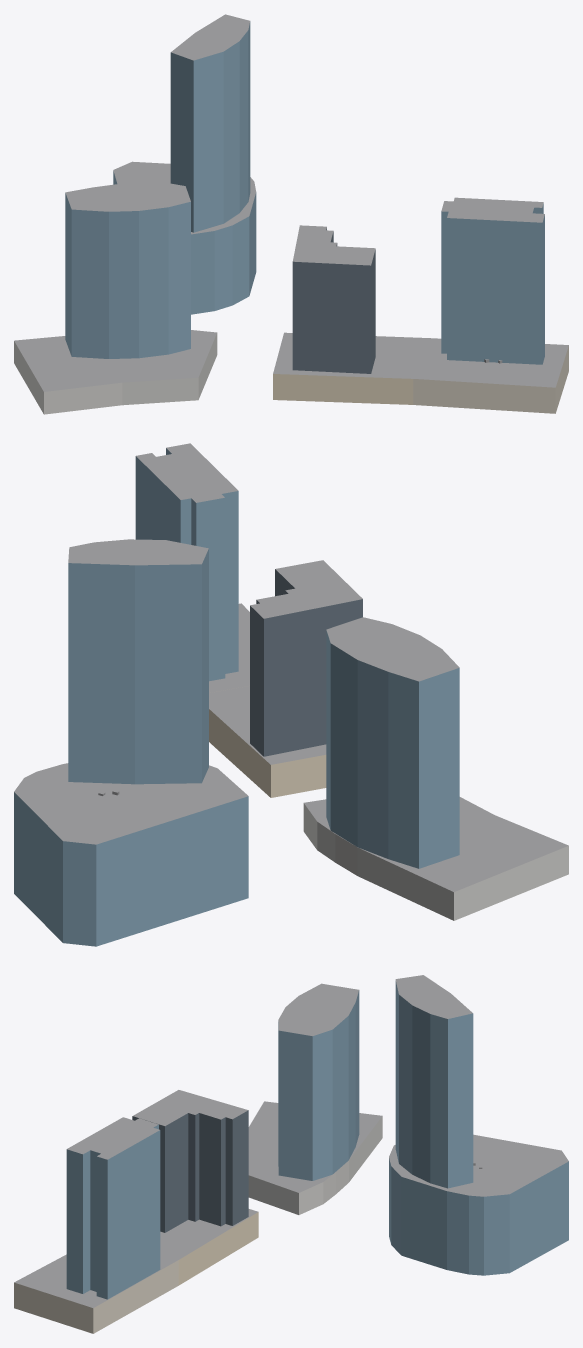
The model's file is building_-3_5.glb.
3 renders of one model, top to bottom at view 1: azimuth 30°, elevation 25°; view 2: azimuth 150°, elevation 25°; view 3: azimuth 270°, elevation 25°, orthographic. The views are drawn at different scales.
Visible parts, largest first — view 1: glass_blue, roof, glass_dark, concrete_light, concrete_warm, sandstone; view 2: glass_blue, roof, glass_dark, concrete_light, sandstone; view 3: glass_blue, roof, glass_dark, concrete_warm, concrete_light, sandstone.
Part boxes in pixels (x1,y1,x2,y2): glass_blue: (65, 21, 544, 364); roof: (14, 14, 568, 391); glass_dark: (292, 228, 375, 373); concrete_light: (14, 333, 217, 414); concrete_warm: (413, 346, 568, 413); sandstone: (273, 374, 413, 404); glass_blue: (14, 448, 459, 946); roof: (14, 443, 568, 891); glass_dark: (250, 569, 362, 756); concrete_light: (303, 803, 568, 920); sandstone: (209, 709, 326, 797); glass_blue: (66, 981, 568, 1299); roof: (14, 975, 568, 1308); glass_dark: (132, 1110, 248, 1232); concrete_warm: (14, 1260, 178, 1333); concrete_light: (248, 1116, 382, 1214); sandstone: (178, 1212, 258, 1285).
Size of the model in its own units: 273 by 150 by 304.
